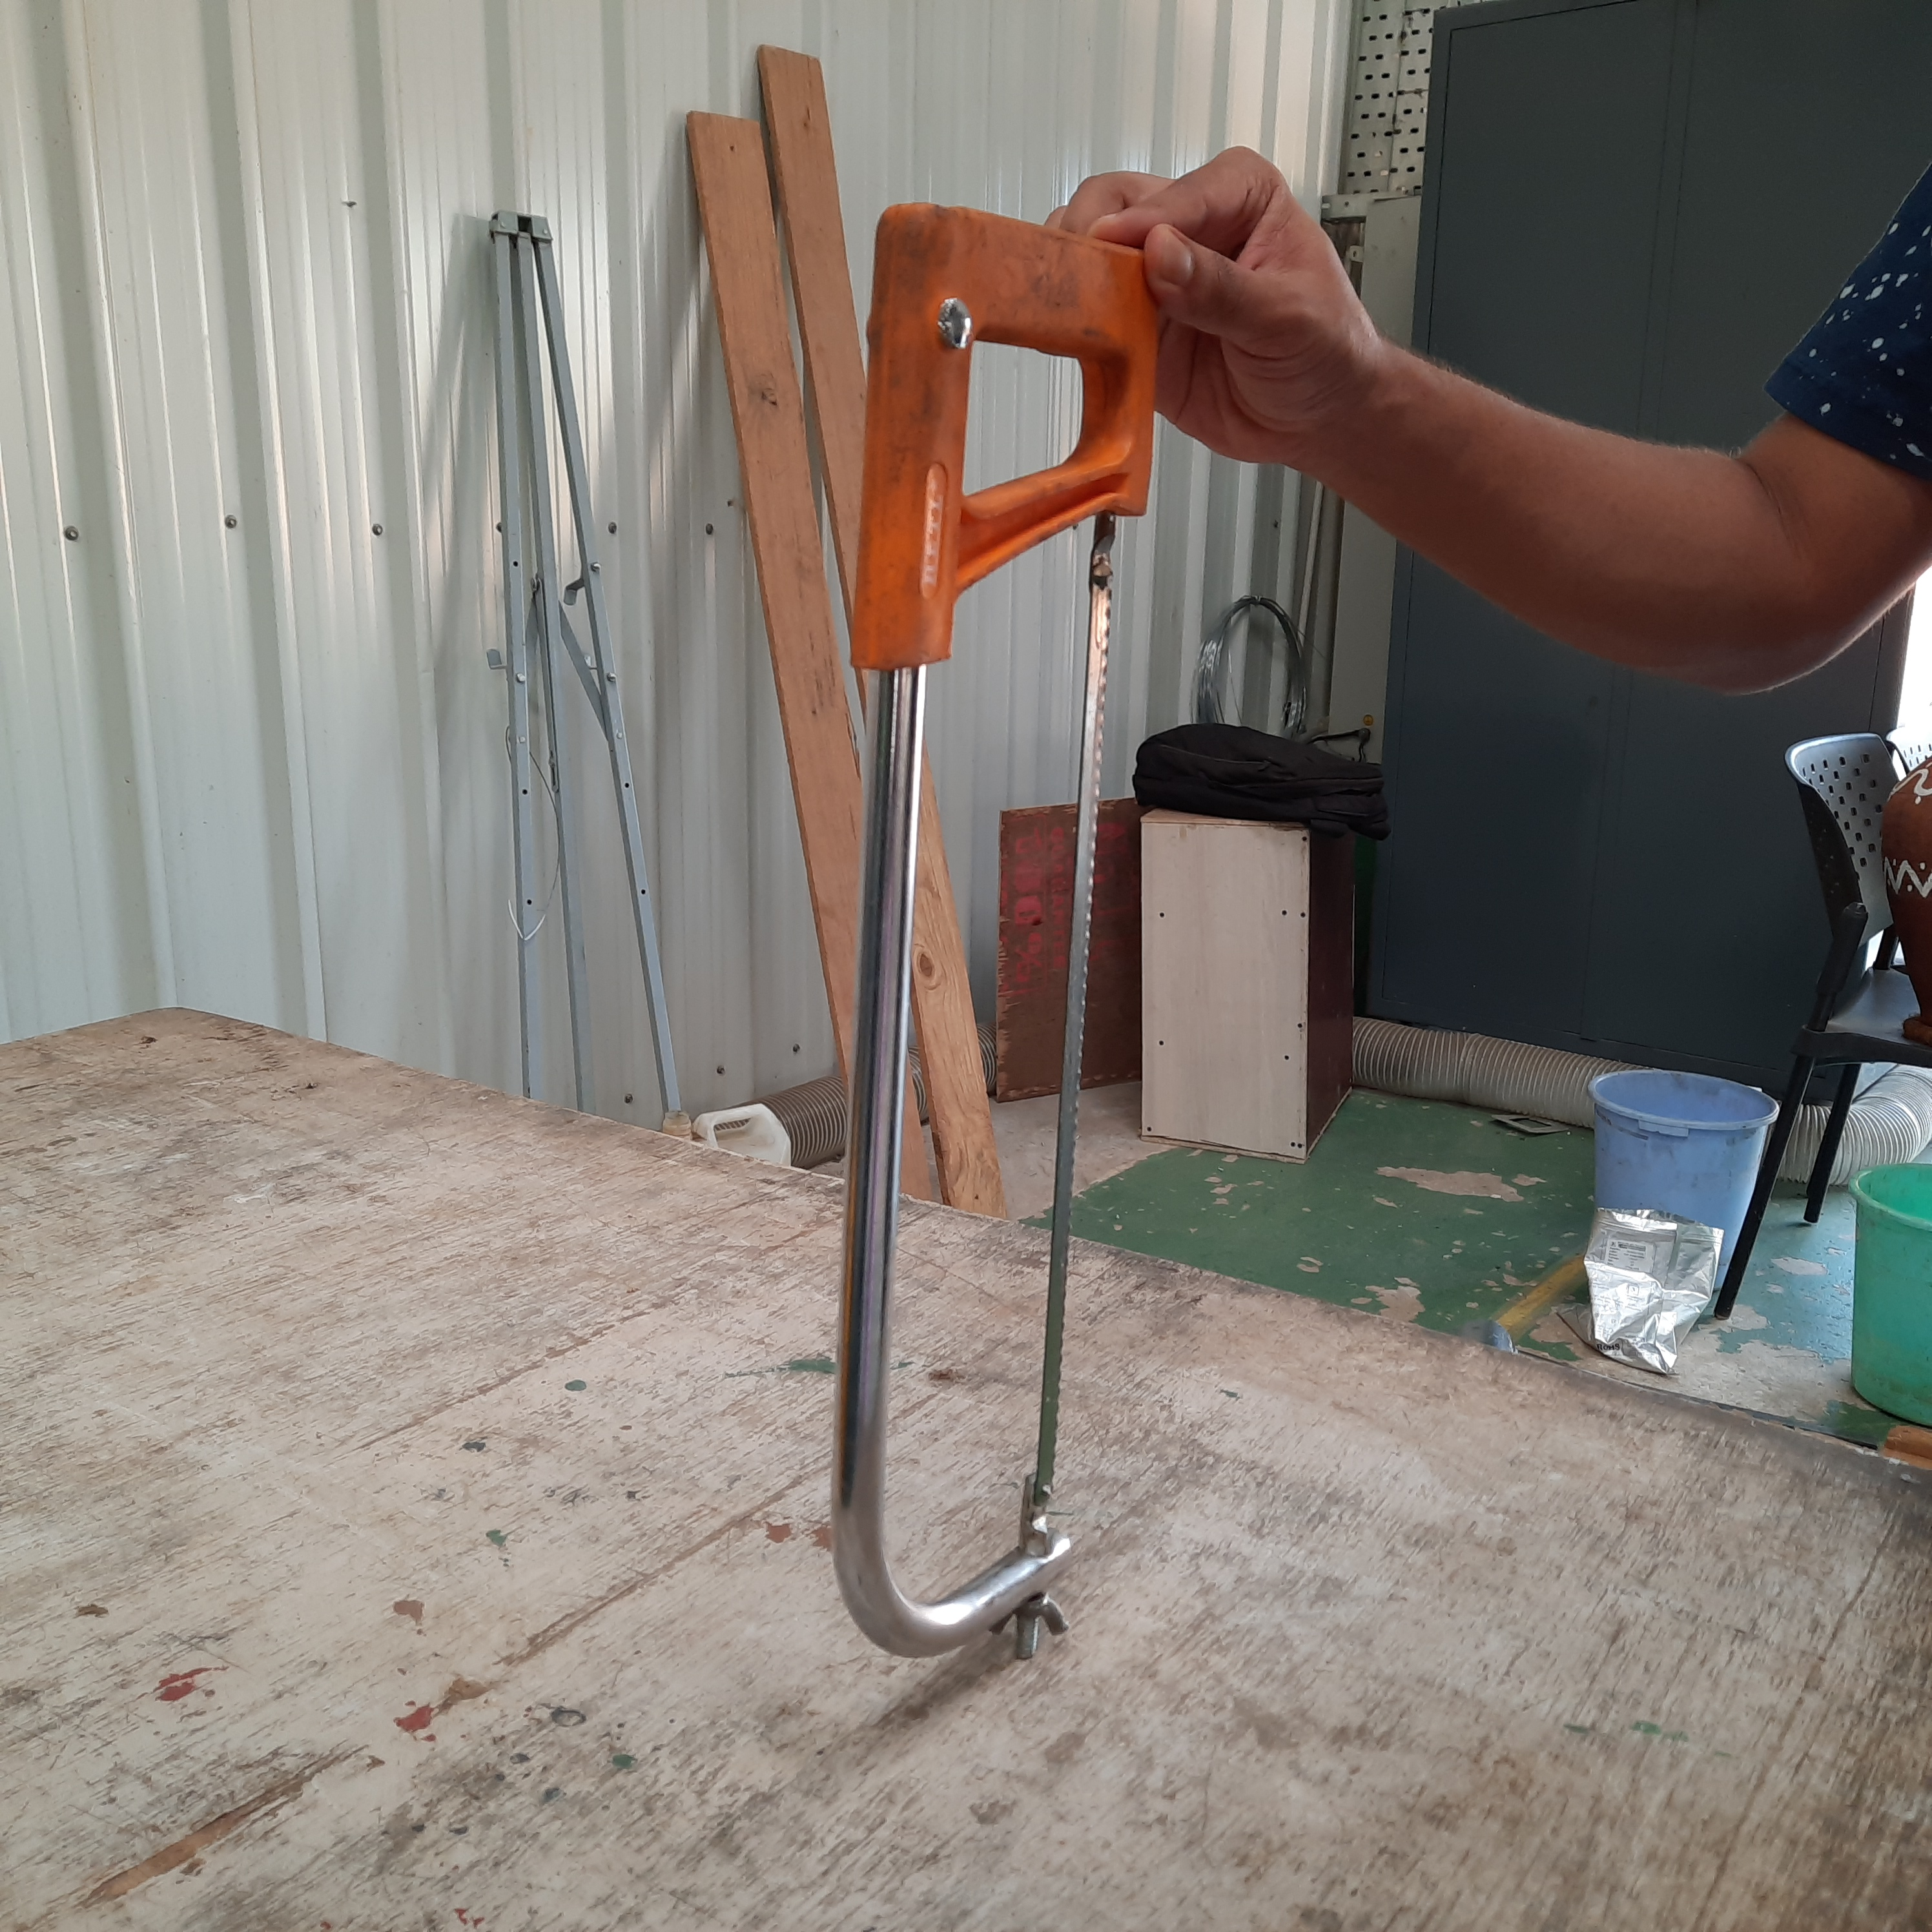Hexaframe: (833, 202, 1169, 1674)
